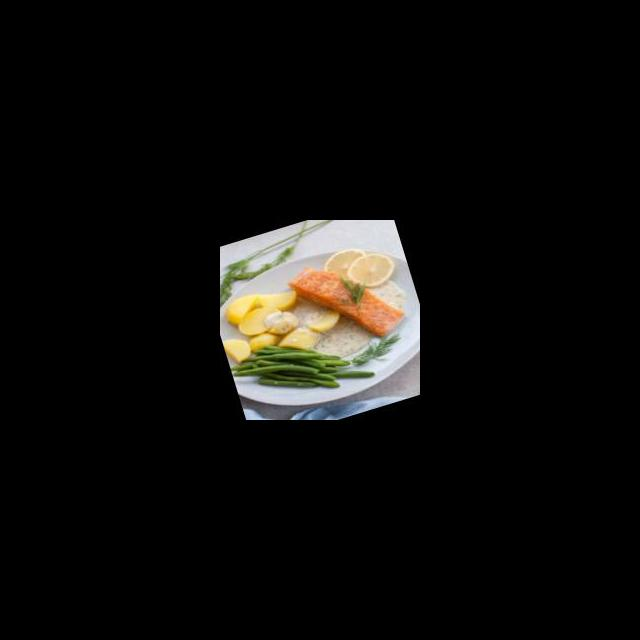ca hoi: (296, 270, 394, 331)
ca hoi sot pho mai kem: (225, 259, 420, 401)
pho mai: (318, 320, 373, 355), (378, 282, 419, 311)
